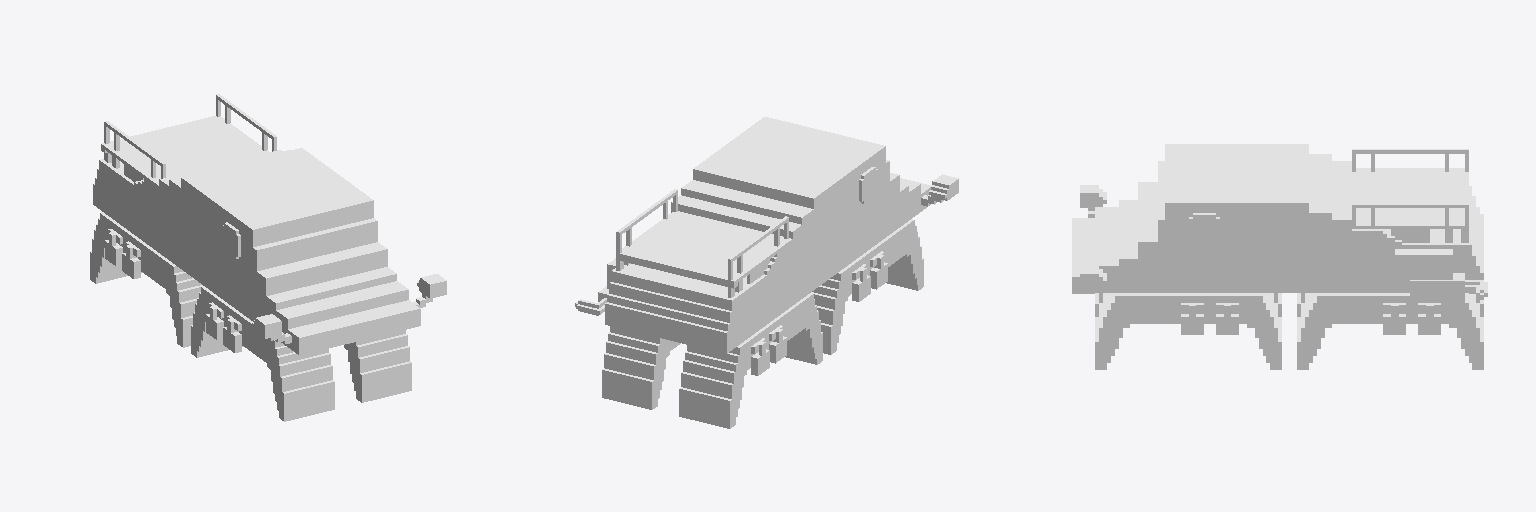
The model's file is Boss-0.obj.
3 renders of one model, left to right at view 1: azimuth 30°, elevation 25°; view 2: azimuth 150°, elevation 25°; view 3: azimuth 270°, elevation 25°, orthographic.
Parts seen in each view (by area): view 1: Boss-0; view 2: Boss-0; view 3: Boss-0.
Part boxes in pixels (x1,y1,x2,y2): Boss-0: (90, 94, 446, 421); Boss-0: (575, 117, 958, 428); Boss-0: (1072, 144, 1487, 369).
Size of the model in its own units: 54 by 47 by 107.